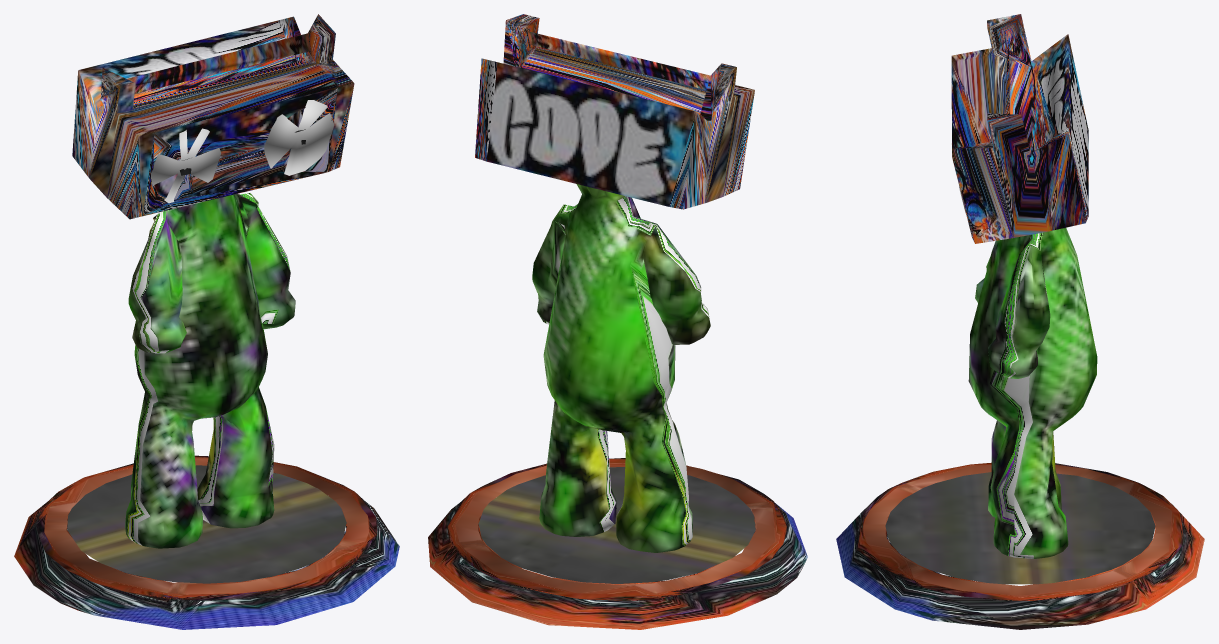
3 views of the same model, side by side, from view 1: azimuth 30°, elevation 25°; view 2: azimuth 150°, elevation 25°; view 3: azimuth 270°, elevation 25° (orthographic). The views are drawn at different scales.
Bounding box in the file's own units: 1.45 × 2.1 × 1.43.
6 materials, 4 textured.
